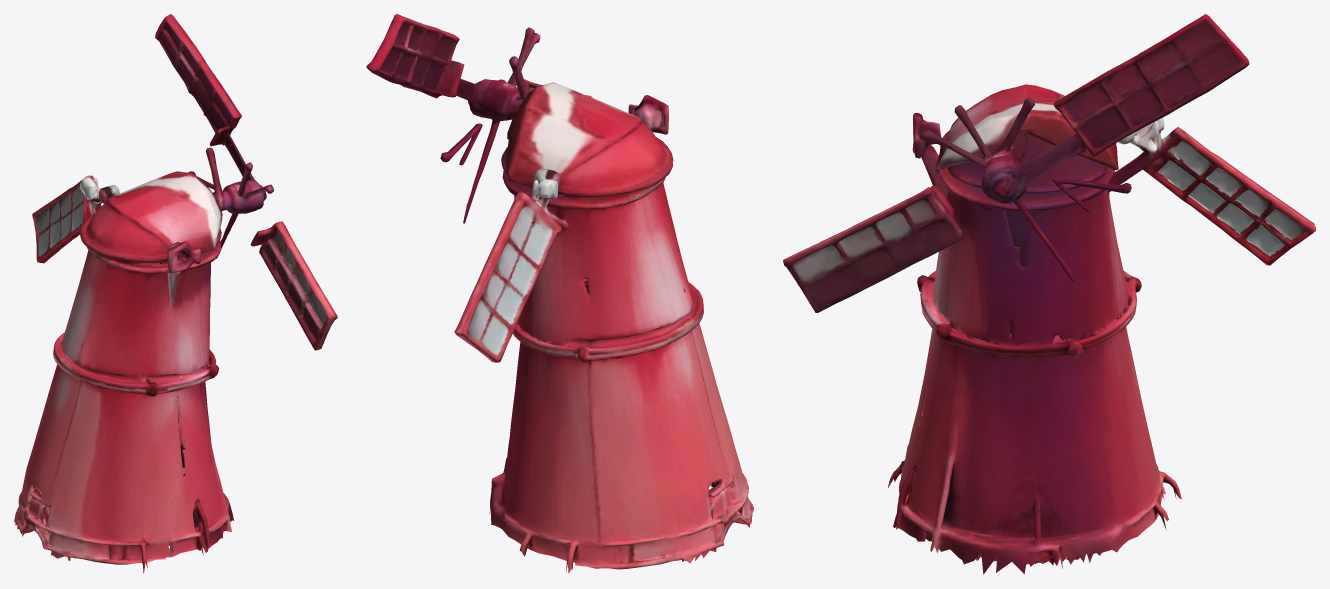
Rendered from windmill.glb.
The picture shows the model from 3 angles, left to right: view 1: azimuth 30°, elevation 25°; view 2: azimuth 150°, elevation 25°; view 3: azimuth 270°, elevation 25°; orthographic projection. The views are drawn at different scales.
Parts seen in each view (by area): view 1: geometry_0; view 2: geometry_0; view 3: geometry_0.
Boxes of the visible parts, bbox=[...] form: geometry_0: bbox=[14, 14, 337, 573]; geometry_0: bbox=[366, 14, 753, 572]; geometry_0: bbox=[783, 14, 1315, 574].
Size of the model in its own units: 3.78 by 7 by 5.9.
Materials: 1 (1 with a texture image).
